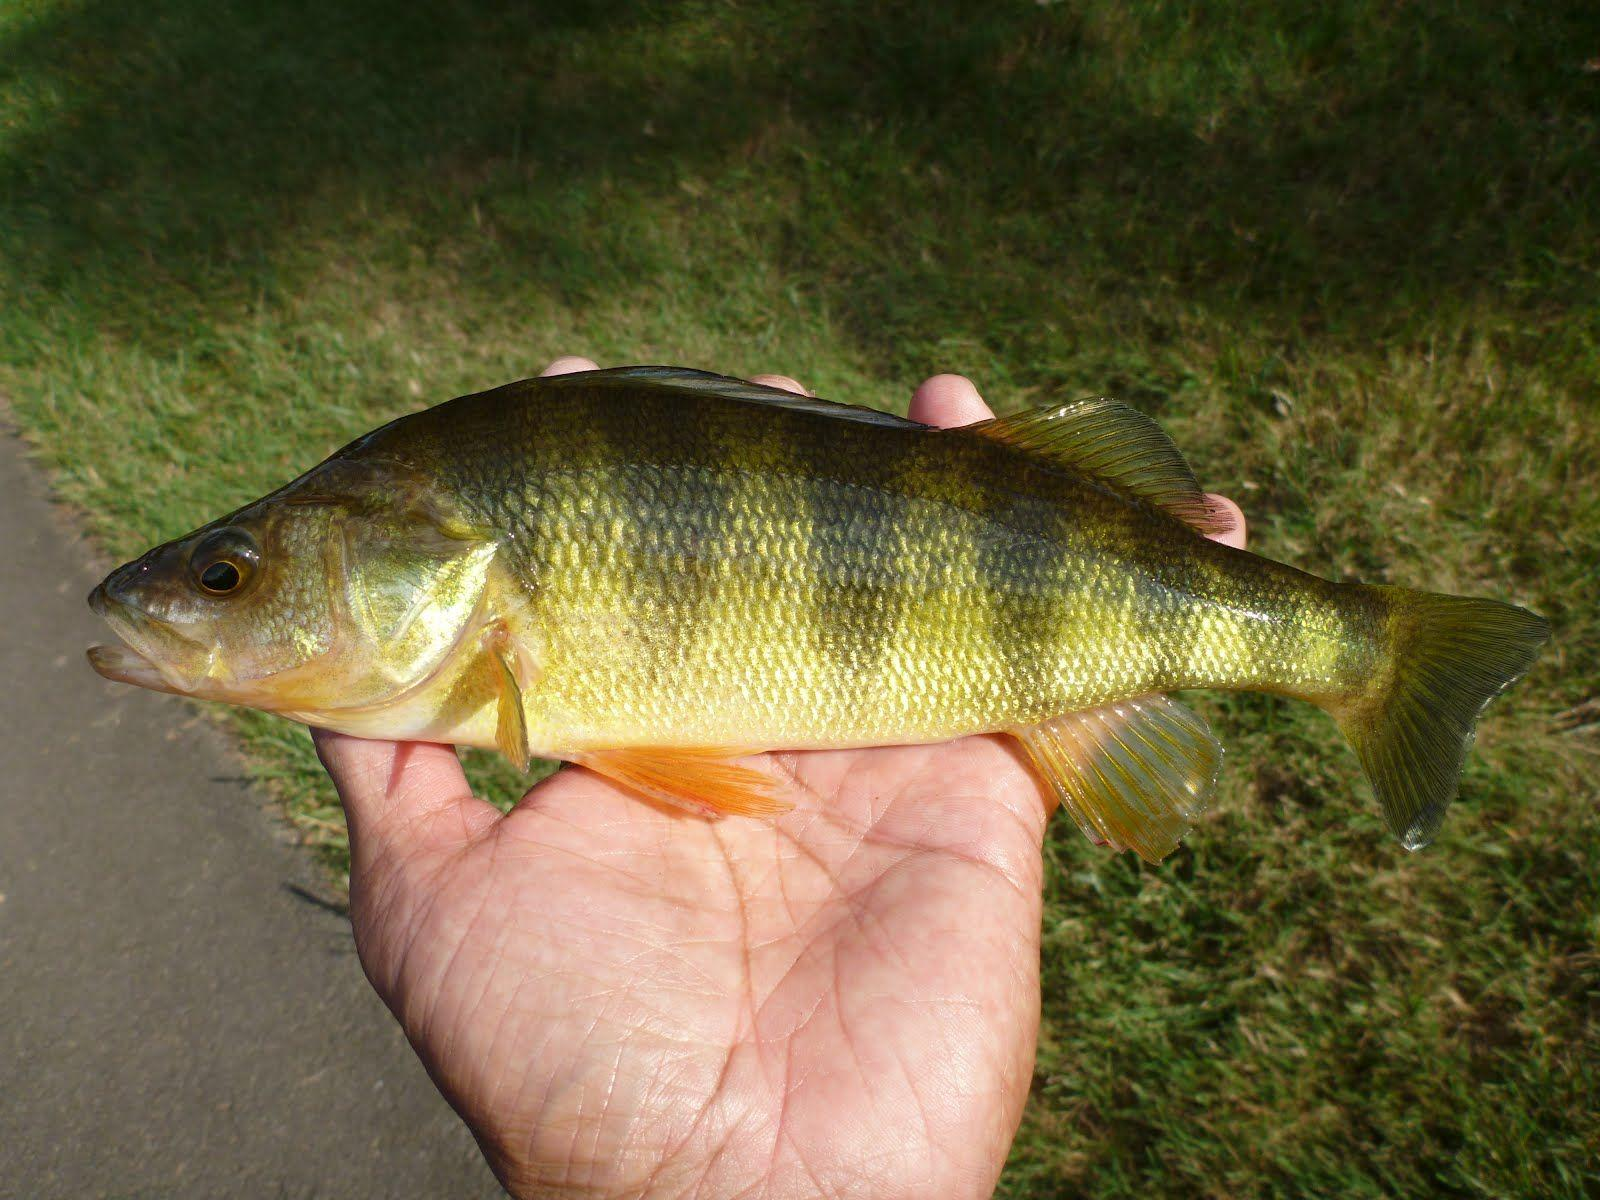Perch: (98, 326, 1551, 843)
